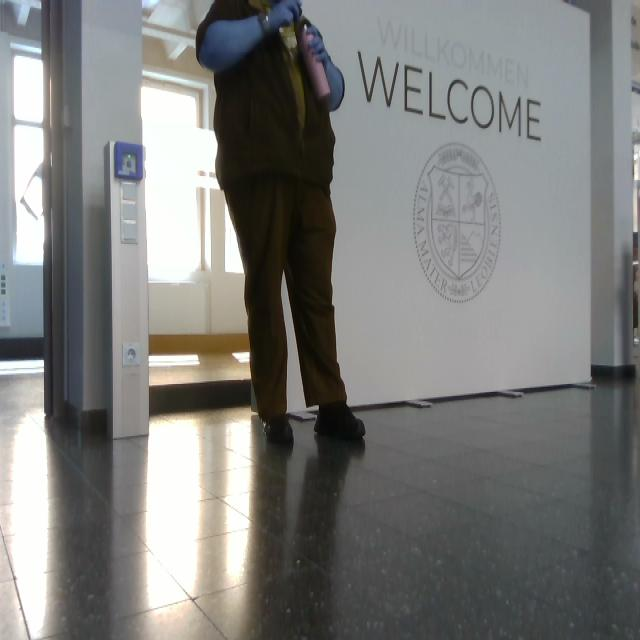door: (106, 140, 151, 440)
light bulb: (20, 161, 44, 221), (279, 18, 299, 57), (231, 350, 251, 364)
person: (195, 1, 367, 445)
pillar: (44, 1, 151, 440)
tiled floor: (2, 365, 639, 637)
